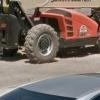Tractor: (7, 4, 100, 67)
